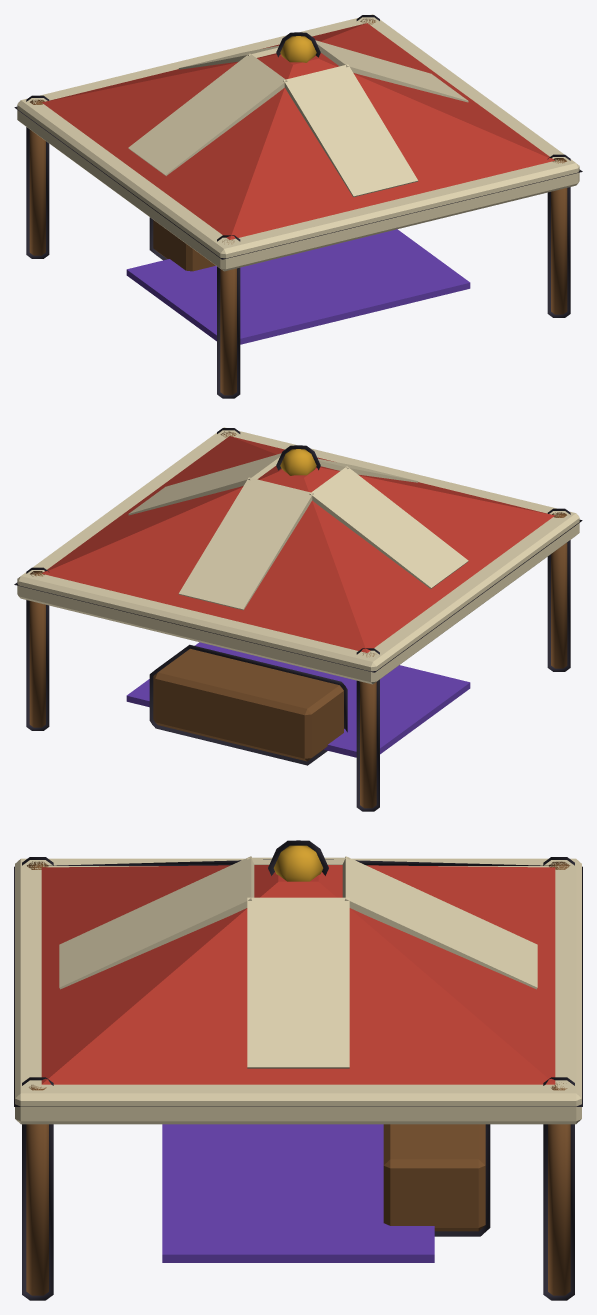
File: bazaar_tent.glb
The picture shows the model from 3 angles, top to bottom: view 1: azimuth 30°, elevation 25°; view 2: azimuth 150°, elevation 25°; view 3: azimuth 270°, elevation 25°; orthographic projection. The views are drawn at different scales.
Visible parts, largest first — view 1: bazaar_tent; view 2: bazaar_tent; view 3: bazaar_tent.
Boxes of the visible parts, <box> form: bazaar_tent: <box>14,14,582,398</box>; bazaar_tent: <box>14,427,582,811</box>; bazaar_tent: <box>14,840,582,1300</box>.
Size of the model in its own units: 5.02 by 3.36 by 5.02.
